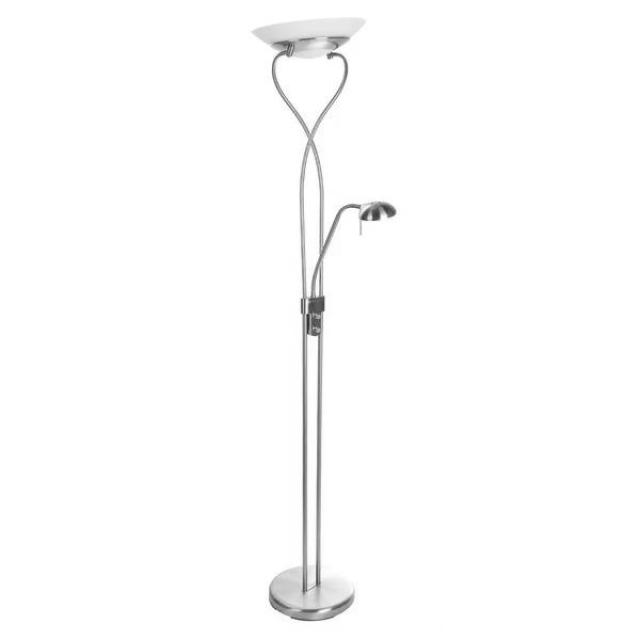Pole: (253, 17, 397, 621)
